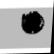correct: (20, 9, 46, 36)
